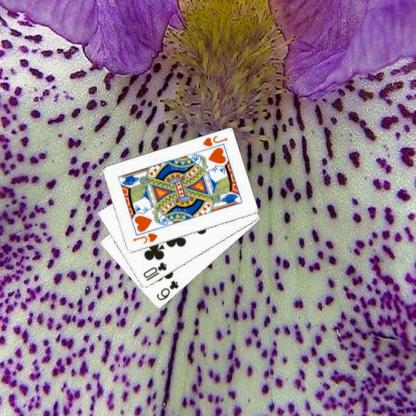10C: (140, 260, 168, 282)
6C: (154, 278, 180, 302)
JH: (130, 230, 159, 245), (200, 133, 229, 148)
